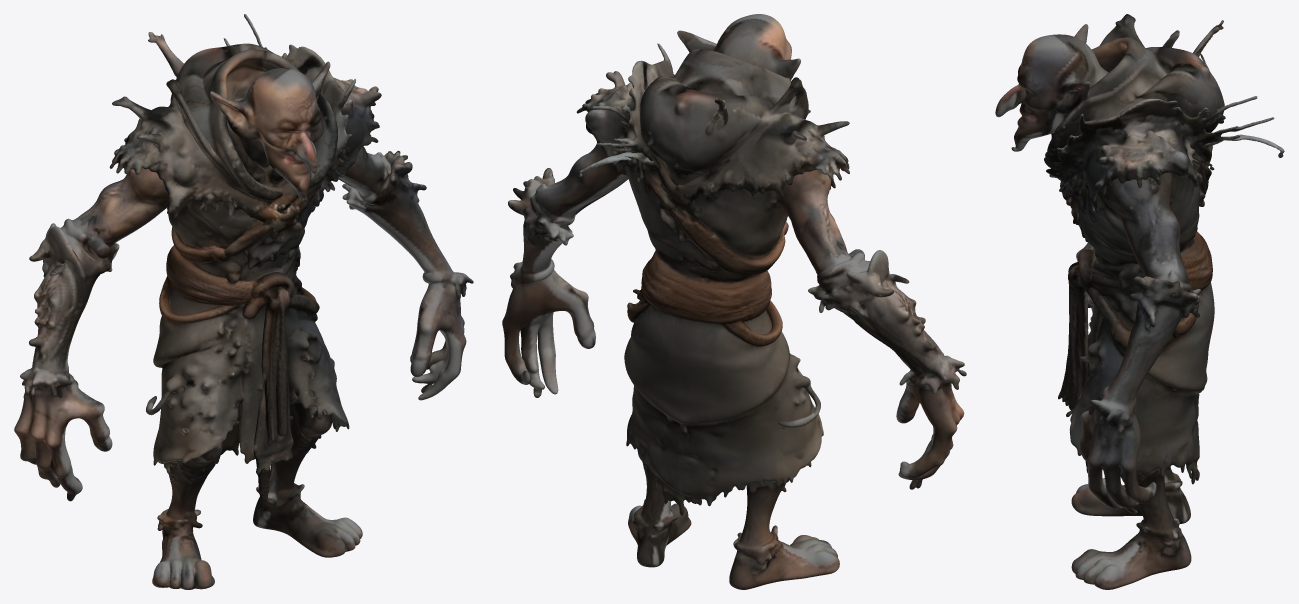
File: goblin.glb
The picture shows the model from 3 angles, left to right: view 1: azimuth 30°, elevation 25°; view 2: azimuth 150°, elevation 25°; view 3: azimuth 270°, elevation 25°; orthographic projection.
Parts seen in each view (by area): view 1: tripo_node_7d43e1ab-4997-4cd3-bbc5-8b908043db56; view 2: tripo_node_7d43e1ab-4997-4cd3-bbc5-8b908043db56; view 3: tripo_node_7d43e1ab-4997-4cd3-bbc5-8b908043db56.
Boxes of the visible parts, x1,y1,x2,y2 form: tripo_node_7d43e1ab-4997-4cd3-bbc5-8b908043db56: [14, 14, 473, 589]; tripo_node_7d43e1ab-4997-4cd3-bbc5-8b908043db56: [502, 14, 966, 589]; tripo_node_7d43e1ab-4997-4cd3-bbc5-8b908043db56: [995, 14, 1284, 589].
Bounding box in the file's own units: 0.9236 × 1 × 0.5157.
1 material, 1 textured.
